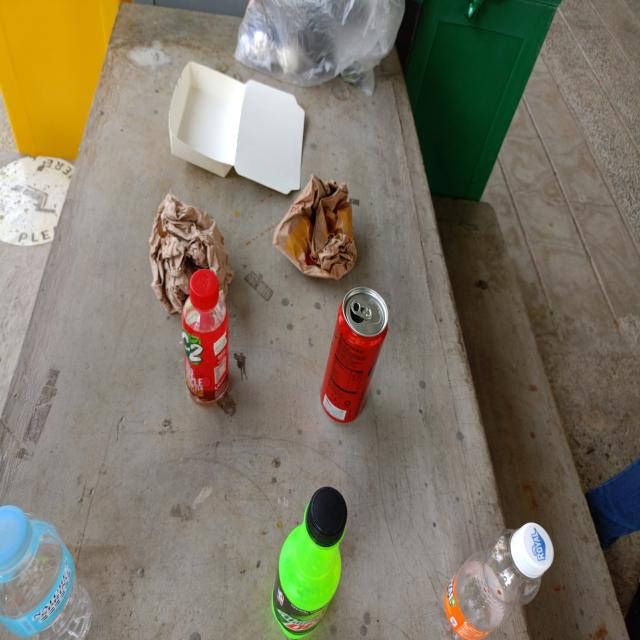Anorganik: (438, 520, 556, 640), (0, 502, 92, 640), (272, 485, 349, 640), (320, 286, 388, 422), (181, 267, 229, 410)
Organik: (166, 59, 306, 192), (148, 194, 234, 314), (271, 171, 361, 282)
